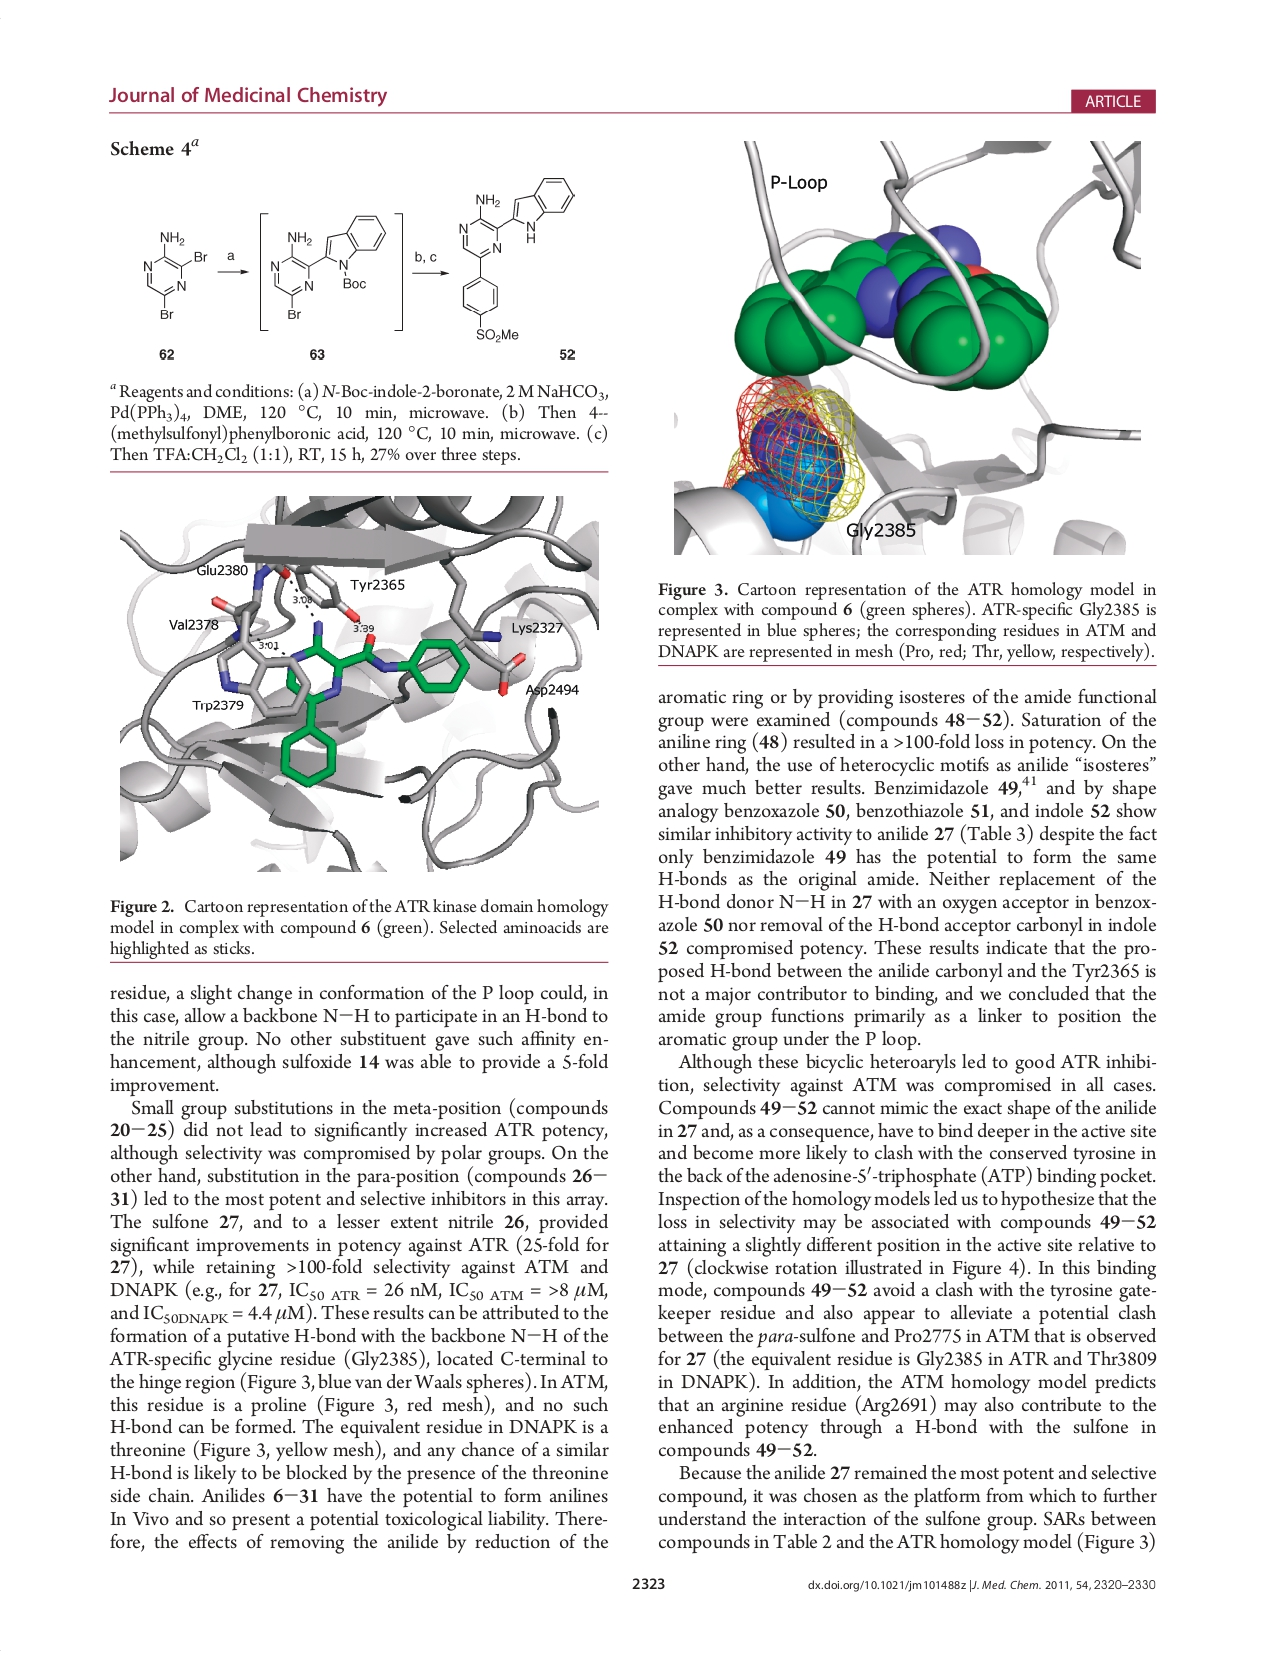exist_molecular: (451, 172, 577, 346), (269, 210, 390, 323), (136, 227, 210, 322)
